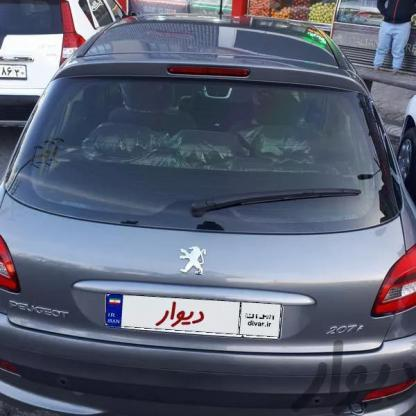Car: (0, 18, 416, 416), (0, 0, 123, 172)
